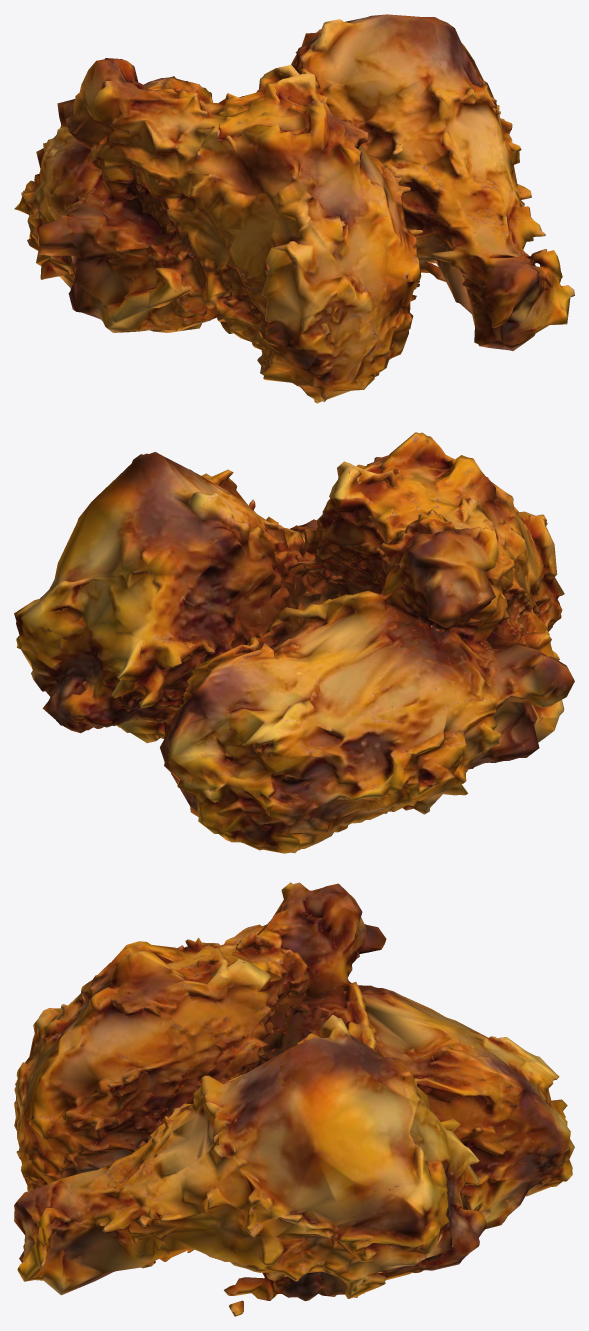
File: chicken_hero.glb
3 renders of one model, top to bottom at view 1: azimuth 30°, elevation 25°; view 2: azimuth 150°, elevation 25°; view 3: azimuth 270°, elevation 25°, orthographic. The views are drawn at different scales.
Size of the model in its own units: 1.98 by 1.08 by 2.
1 material, 1 textured.
